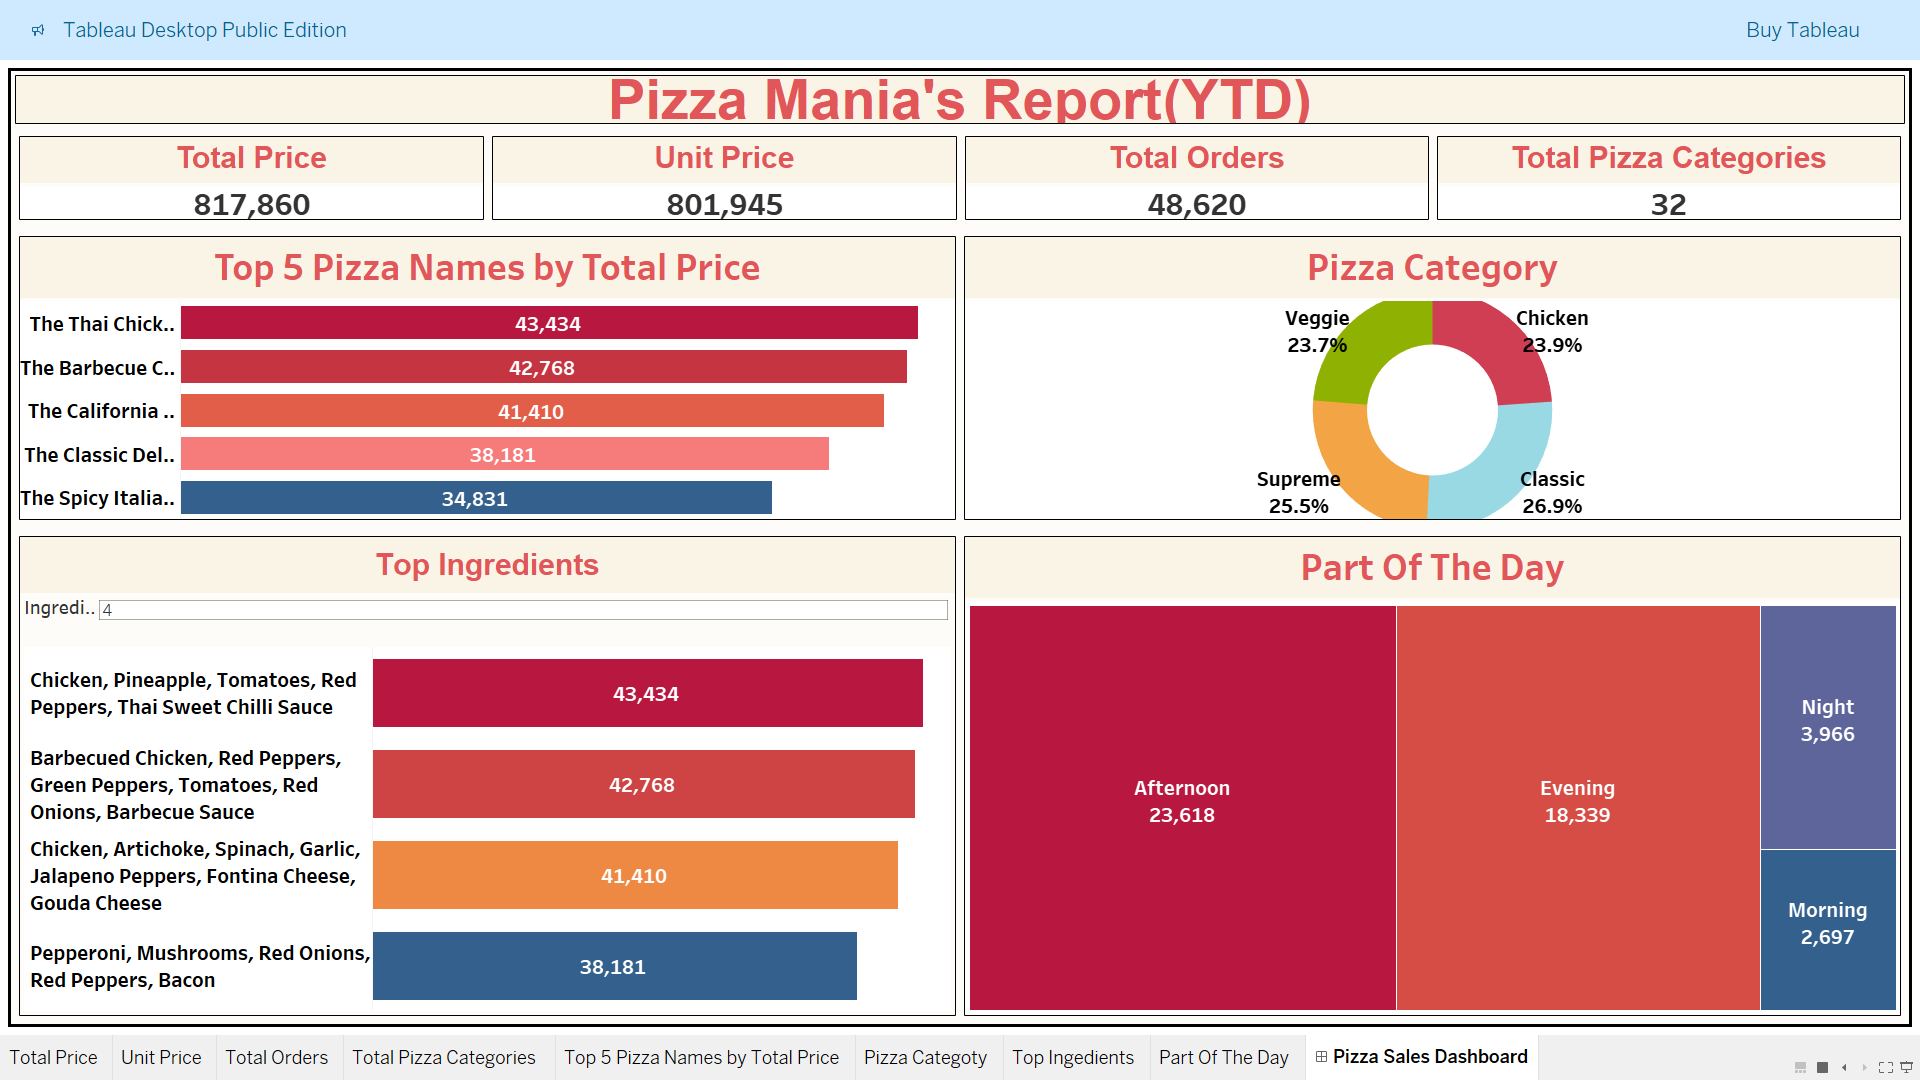

What the dashboard file says about the page in this screenshot:
{"tool":"tableau","page":{"name":"Pizza Sales Dashboard","canvas":[1000,1000],"units":"permille","ordinal":0},"visuals":[{"type":"text","box":[10,21.4,980,63]},{"type":"worksheet","title":"Total Price","mark":"Automatic","box":[9.3,96.5,245.6,123.3]},{"type":"worksheet","title":"Unit Price","mark":"Automatic","box":[255,96.5,245.6,123.3]},{"type":"worksheet","title":"Total Orders","mark":"Automatic","box":[500.6,96.5,245,123.3]},{"type":"worksheet","title":"Total Pizza Categories","mark":"Automatic","box":[745.6,96.5,245,123.3]},{"type":"worksheet","title":"Top 5 Pizza Names by Total Price","mark":"Automatic","rows":["pizza_name"],"cols":["total_price"],"box":[9.3,230.6,490.7,391.4]},{"type":"worksheet","title":"Pizza Categoty","mark":"Pie","rows":["Calculation_151715034517475328","Calculation_151715034517475328"],"box":[500,230.6,490.7,391.4]},{"type":"worksheet","title":"Part Of The Day","mark":"Automatic","box":[500,632.7,490.7,347.2]},{"type":"text","box":[12.5,639.4,484.4,75.1]},{"type":"parameter","param":"[Parameters].[Parameter 2]","box":[12.5,714.5,484.4,67]},{"type":"worksheet","title":"Top Ingedients","mark":"Automatic","rows":["pizza_ingredients"],"cols":["total_price"],"box":[12.5,781.5,484.4,191.7]}]}

Visuals, with their boxes on the dashboard's canvas, which has no fixed pixel size, in thousandths of its width and height (x1, y1, x2, y2). These are canvas units, not pixel positions in the 1920x1080 screenshot, which may show the page scaled, cropped or inside an application window:
text: 10, 21, 990, 84
"Total Price" worksheet: 9, 96, 255, 220
"Unit Price" worksheet: 255, 96, 501, 220
"Total Orders" worksheet: 501, 96, 746, 220
"Total Pizza Categories" worksheet: 746, 96, 991, 220
"Top 5 Pizza Names by Total Price" worksheet: 9, 231, 500, 622
"Pizza Categoty" worksheet (Pie marks): 500, 231, 991, 622
"Part Of The Day" worksheet: 500, 633, 991, 980
text: 12, 639, 497, 714
parameter: 12, 714, 497, 782
"Top Ingedients" worksheet: 12, 782, 497, 973
